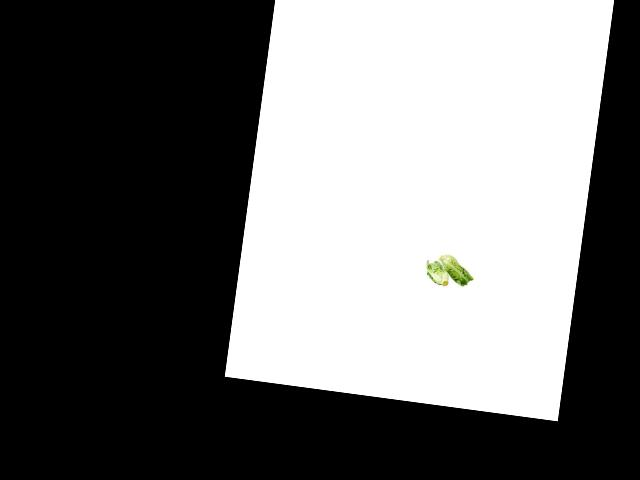lettuce: (421, 250, 474, 295)
